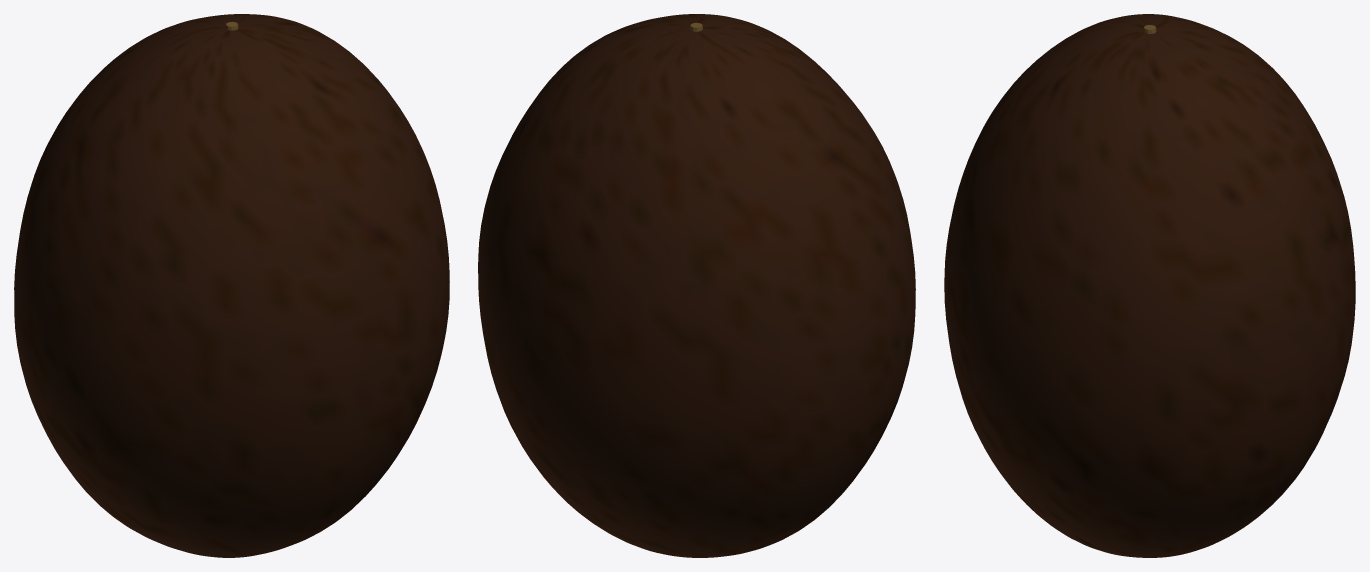
File: kiwi.glb
3 views of the same model, side by side, from view 1: azimuth 30°, elevation 25°; view 2: azimuth 150°, elevation 25°; view 3: azimuth 270°, elevation 25° (orthographic).
Parts seen in each view (by area): view 1: entier_peau, moitie_B_peau, moitie_A_peau; view 2: entier_peau, moitie_A_peau, moitie_B_peau; view 3: entier_peau, moitie_A_peau, moitie_B_peau.
Boxes of the visible parts, x1=… form: entier_peau: x1=14, y1=14, x2=449, y2=557; moitie_B_peau: x1=43, y1=24, x2=449, y2=557; moitie_A_peau: x1=14, y1=14, x2=317, y2=512; entier_peau: x1=478, y1=14, x2=915, y2=557; moitie_A_peau: x1=478, y1=25, x2=886, y2=557; moitie_B_peau: x1=603, y1=14, x2=915, y2=516; entier_peau: x1=944, y1=14, x2=1355, y2=557; moitie_A_peau: x1=1150, y1=14, x2=1355, y2=557; moitie_B_peau: x1=944, y1=14, x2=1149, y2=557.
Bounding box in the file's own units: 1.16 × 1.49 × 1.08.
